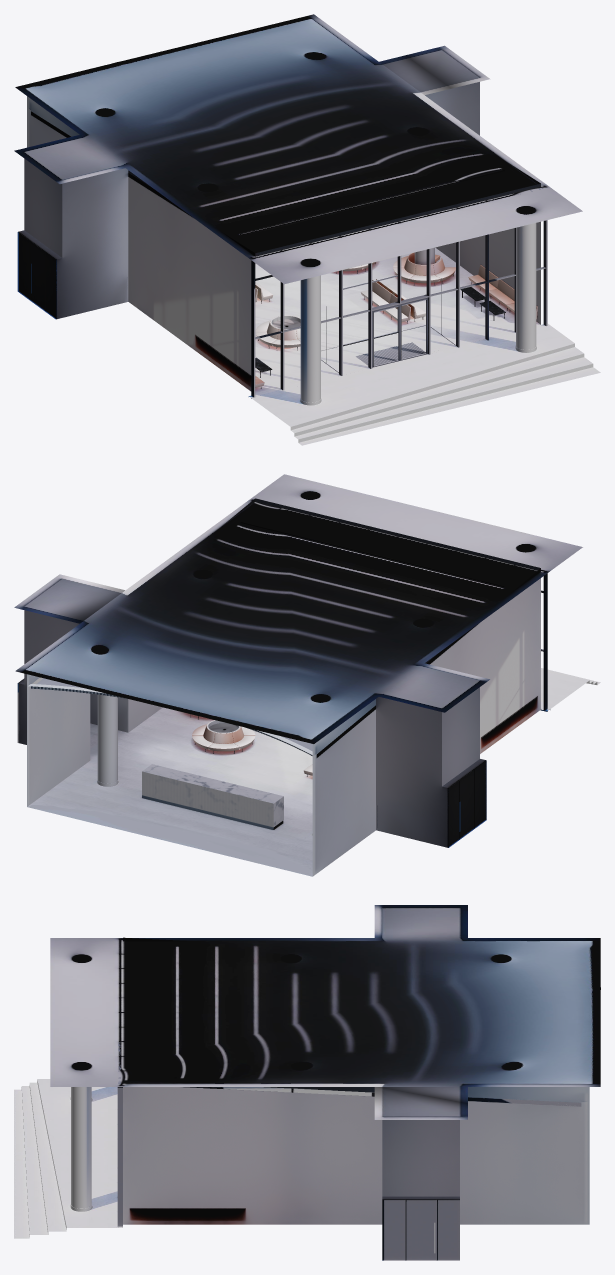
File: lobby.fbx
3 renders of one model, top to bottom at view 1: azimuth 30°, elevation 25°; view 2: azimuth 150°, elevation 25°; view 3: azimuth 270°, elevation 25°, orthographic. The views are drawn at different scales.
Parts seen in each view (by area): view 1: floor, walls, doors, furniture; view 2: floor, walls, furniture, doors; view 3: floor, walls, doors.
Part boxes in pixels (x1,y1,x2,y2): floor: [14, 14, 600, 445]; walls: [18, 82, 540, 405]; doors: [17, 188, 549, 398]; furniture: [31, 252, 537, 387]; floor: [14, 474, 600, 876]; walls: [17, 578, 540, 876]; furniture: [28, 684, 460, 831]; doors: [17, 573, 550, 846]; floor: [14, 905, 600, 1238]; walls: [70, 1087, 589, 1260]; doors: [117, 1042, 459, 1260].
Bounding box in the file's own units: 1960 × 660 × 2263.
Materials: 6 (4 with a texture image).
